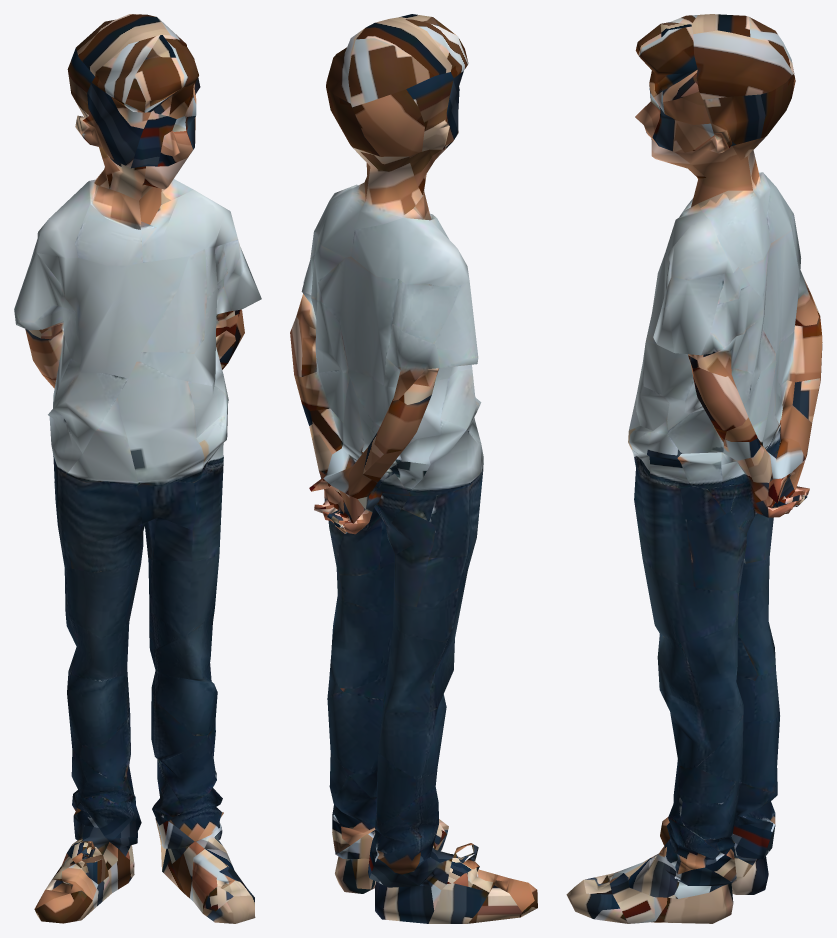
Rendered from passenger-child.glb.
3 renders of one model, left to right at view 1: azimuth 30°, elevation 25°; view 2: azimuth 150°, elevation 25°; view 3: azimuth 270°, elevation 25°, orthographic. The views are drawn at different scales.
Visible parts, largest first — view 1: mesh_node; view 2: mesh_node; view 3: mesh_node.
Boxes of the visible parts, left/top/right/bottom form: mesh_node: left=14, top=14, right=261, bottom=923; mesh_node: left=290, top=14, right=537, bottom=923; mesh_node: left=566, top=14, right=822, bottom=923.
Bounding box in the file's own units: 0.5094 × 1.9 × 0.501.
1 material, 1 textured.
